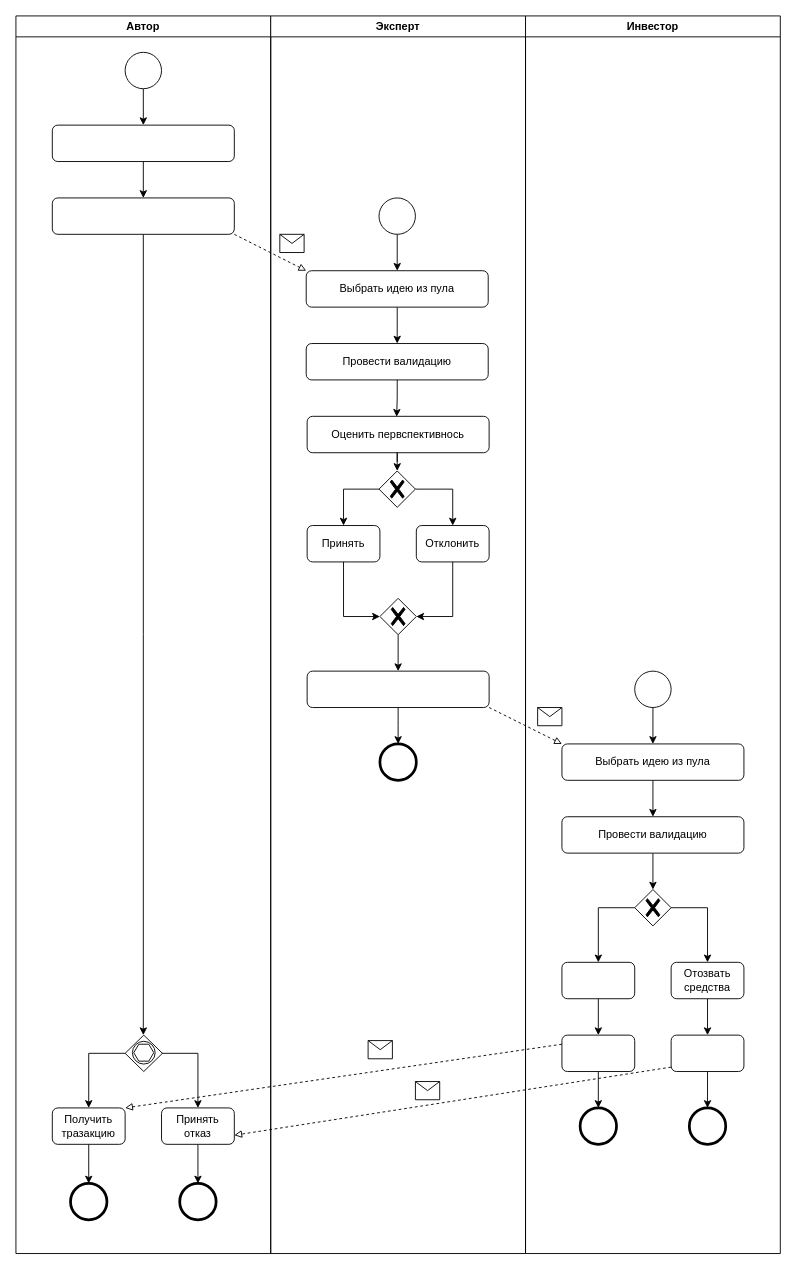
This 796x1269 diagram has some shape labels left out. Here are the shapes that lost their labels. From the top down, the centre of each, then its label:
At (x=142, y=143): "Представить идею".
At (x=142, y=215): "Отправить идею в пулл".
At (x=397, y=689): "Отравить оценку в пулл".
At (x=598, y=980): "Выделить средства".
At (x=598, y=1053): "Отправить транзакцию".
At (x=707, y=1053): "Отправить отказ".
